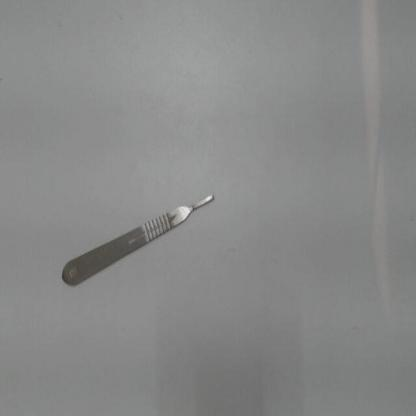No.3 BP Handle: (52, 181, 223, 304)
